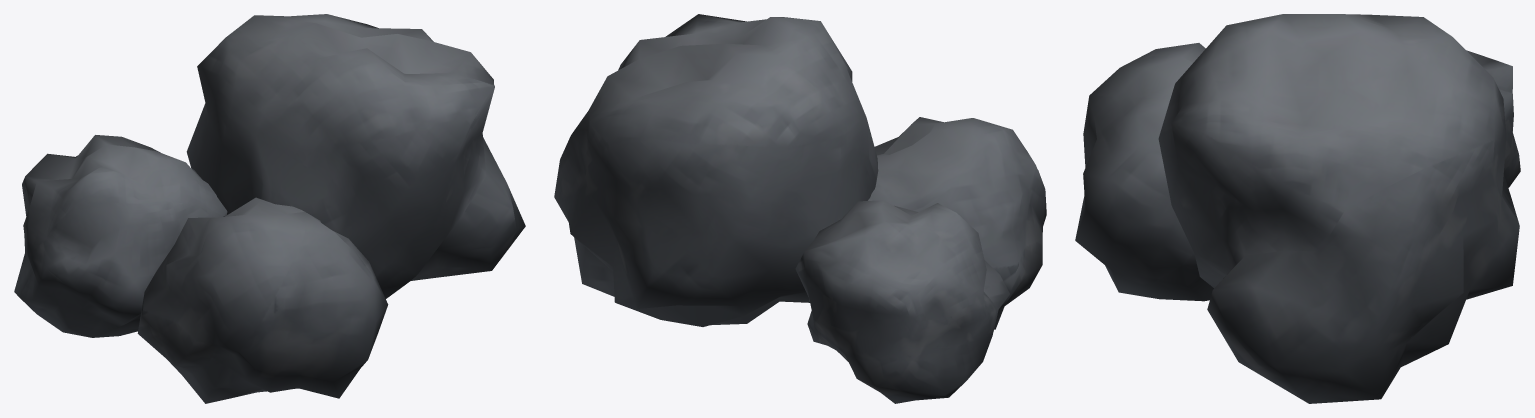
File: Batu2.fbx
3 views of the same model, side by side, from view 1: azimuth 30°, elevation 25°; view 2: azimuth 150°, elevation 25°; view 3: azimuth 270°, elevation 25° (orthographic). The views are drawn at different scales.
Parts seen in each view (by area): view 1: Batu2.3; view 2: Batu2.3; view 3: Batu2.3.
Boxes of the visible parts, box(x1,y1,x2,y2) form: Batu2.3: box(14, 14, 525, 403); Batu2.3: box(554, 14, 1046, 403); Batu2.3: box(1075, 14, 1520, 403).
Bounding box in the file's own units: 507 × 319 × 393.
1 material, 1 textured.
